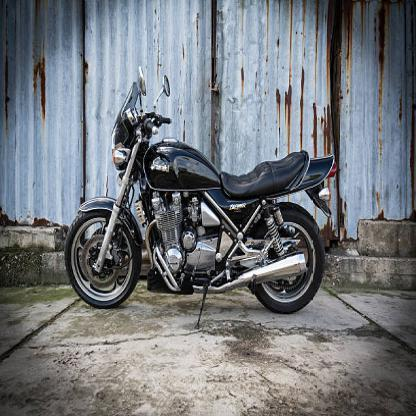Motorcycle: (62, 62, 333, 323)
